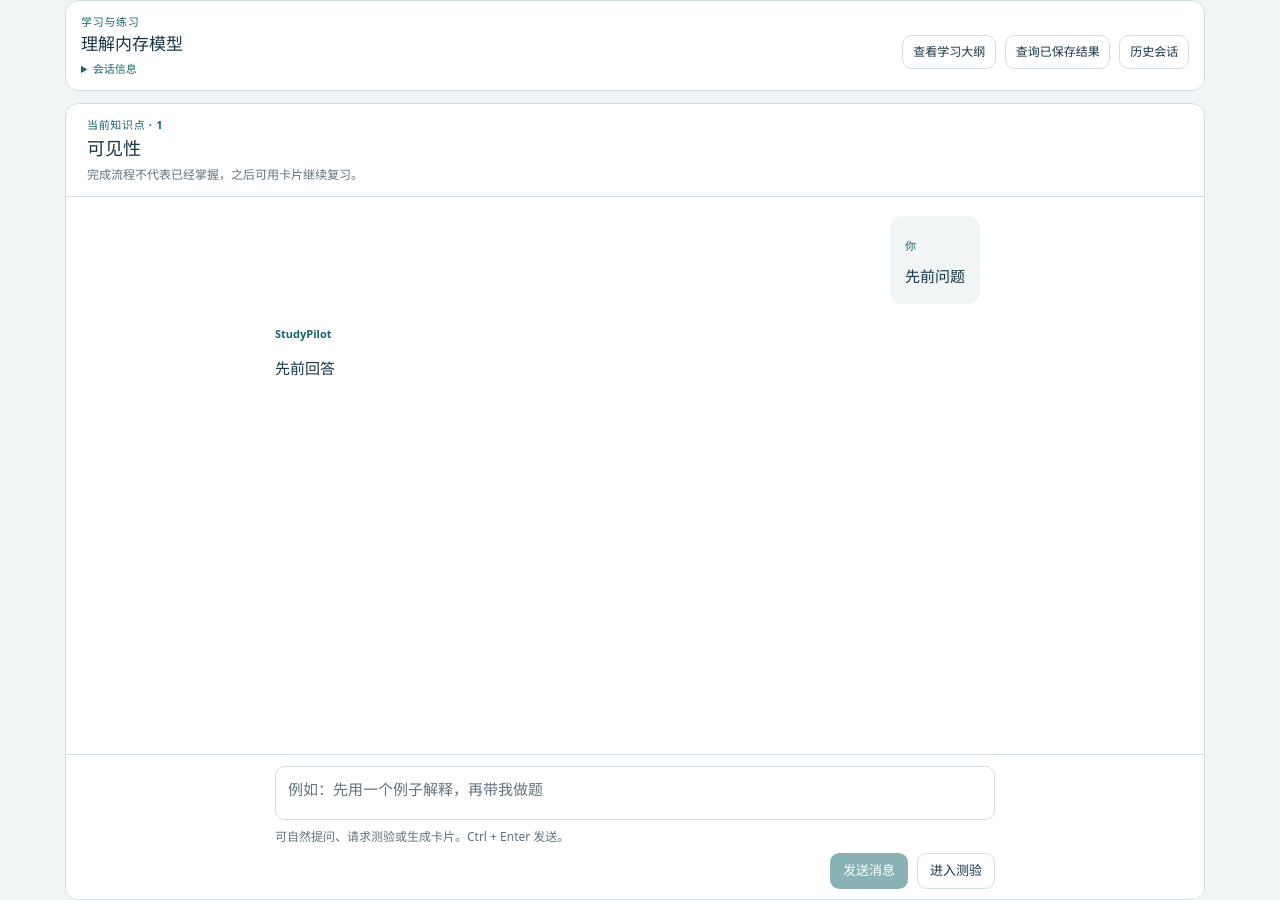
Test: durable learning conversation › restores full saved history and retries uncertain delivery using exactly the same request
Expected: the heading "理解内存模型" is shown, [81, 33, 183, 58]
Expected: the text "先前问题" is shown, [905, 263, 965, 290]
Step 1. Type "再举个例子" into the text box named "继续学习或提问" → (635,792), box [275, 766, 995, 820]
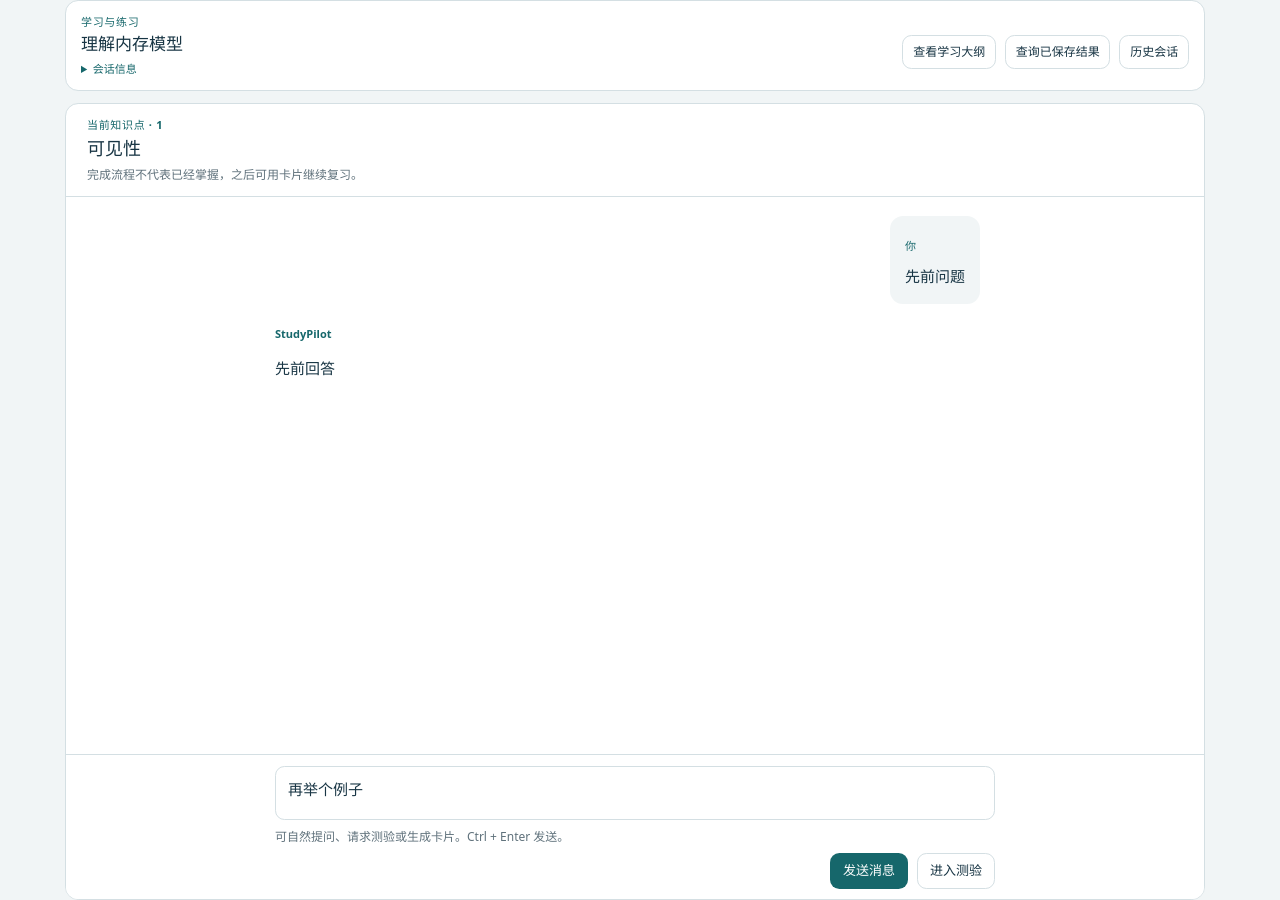
Step 2. Press Enter in the text box named "继续学习或提问", box [275, 766, 995, 820]
Step 3. Click the button "发送消息" → (869,870), box [830, 852, 908, 888]
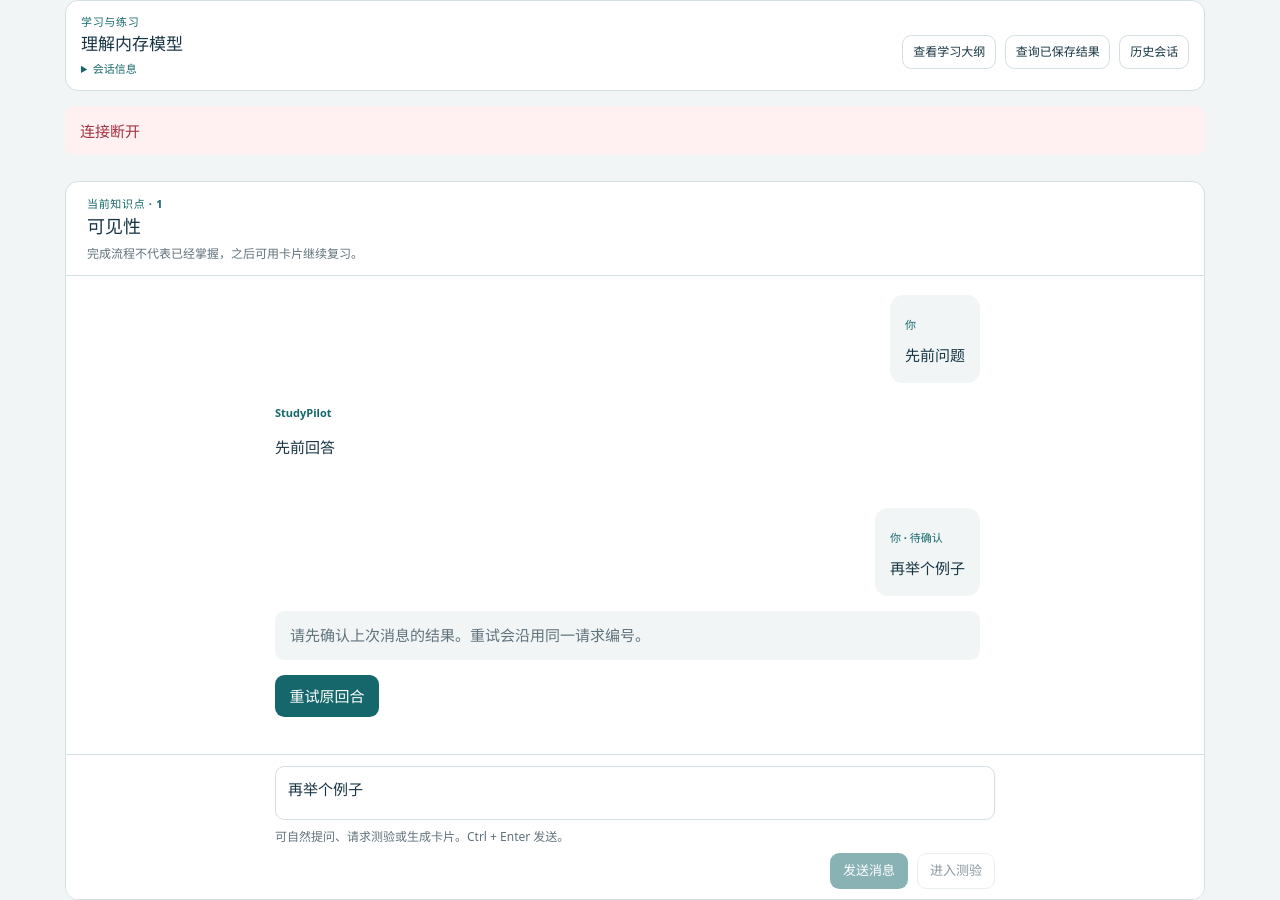
Expected: the text "连接断开" is shown, [65, 106, 1205, 155]
Expected: the button "发送消息" is disabled, [830, 852, 908, 888]
Step 4. Click the button "重试原回合" → (327,696), box [275, 675, 379, 718]
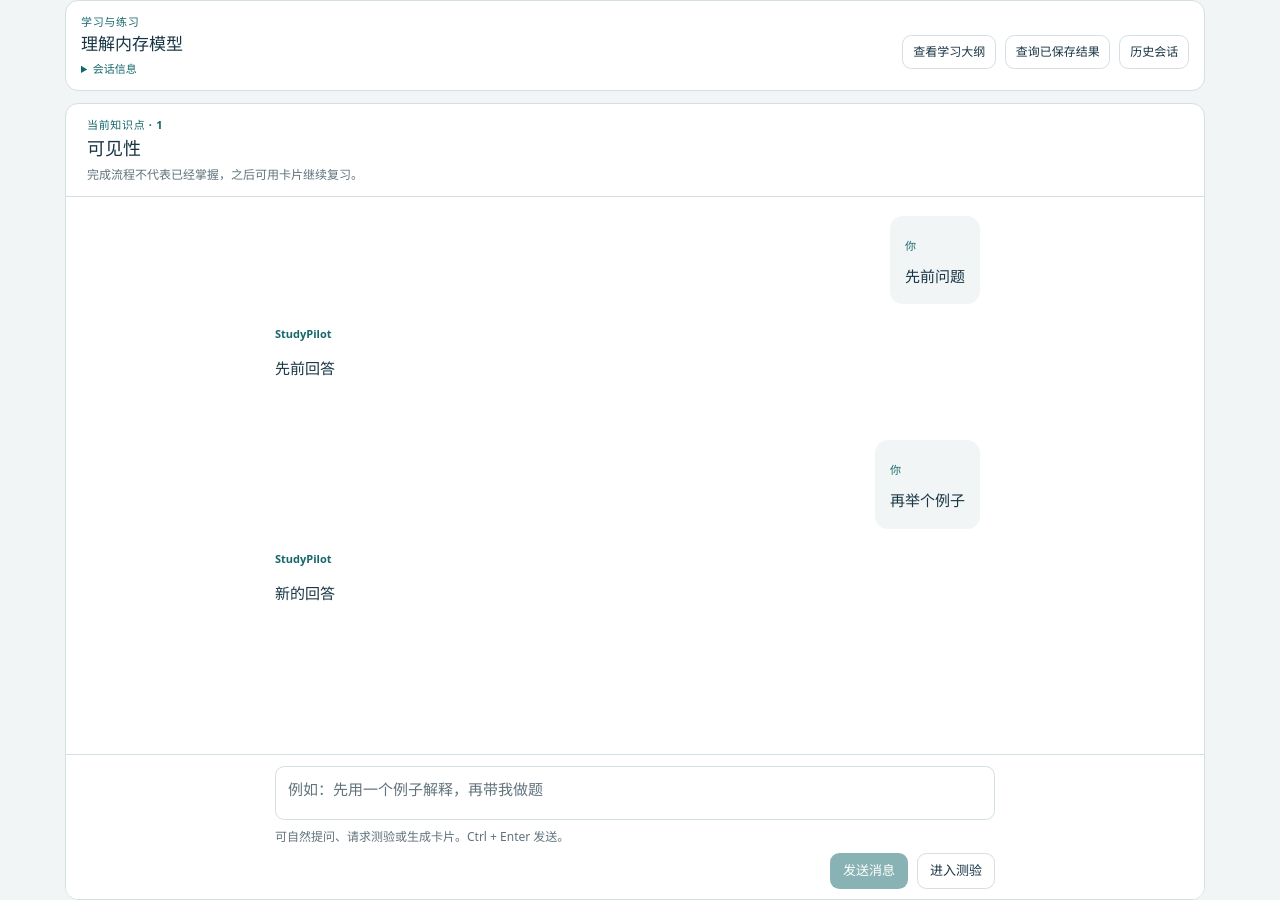
Expected: the text "先前回答" is shown, [275, 358, 335, 378]
Expected: the text "新的回答" is shown, [275, 583, 335, 603]
Expected: the text box named "继续学习或提问" is empty, [275, 766, 995, 820]
